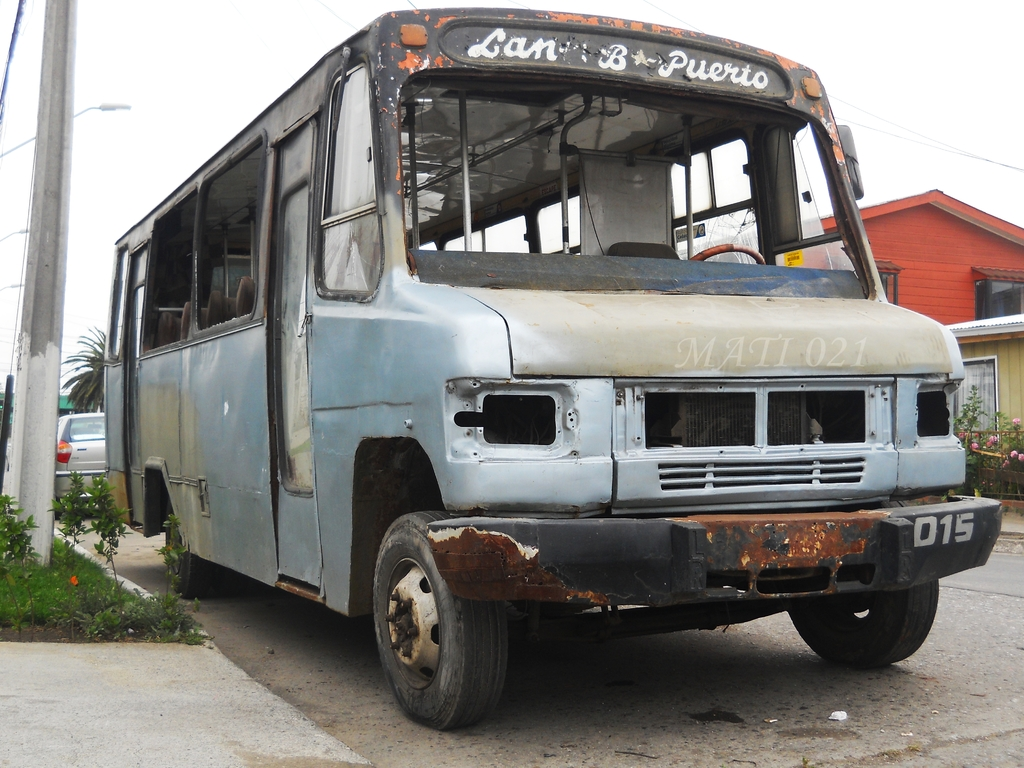Bus: (99, 1, 1006, 732)
